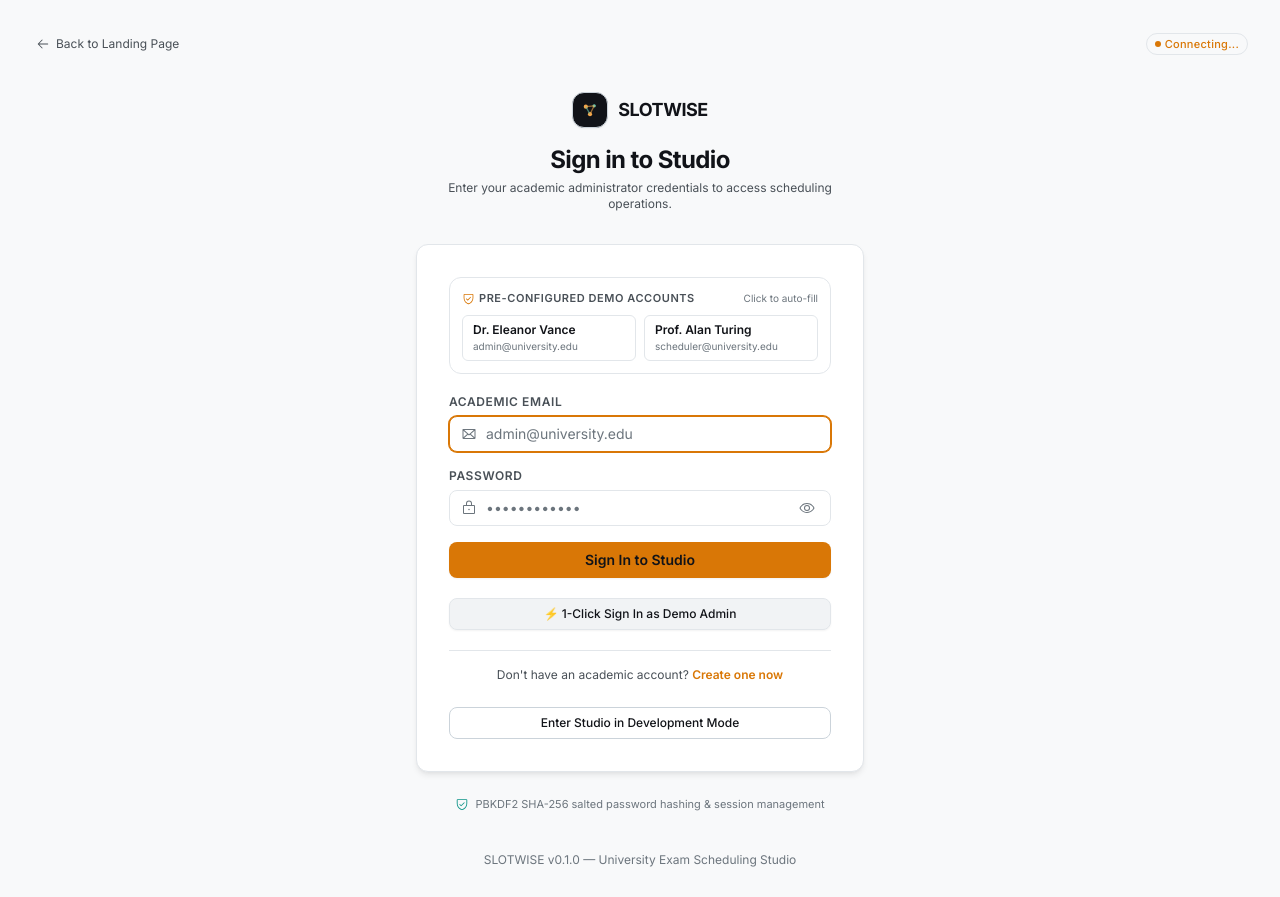
Authentication & Protected Routes › Login Form Validation › validates empty email and password submission
Click the button "Sign In to Studio" at (640, 560), box [449,542,831,578]
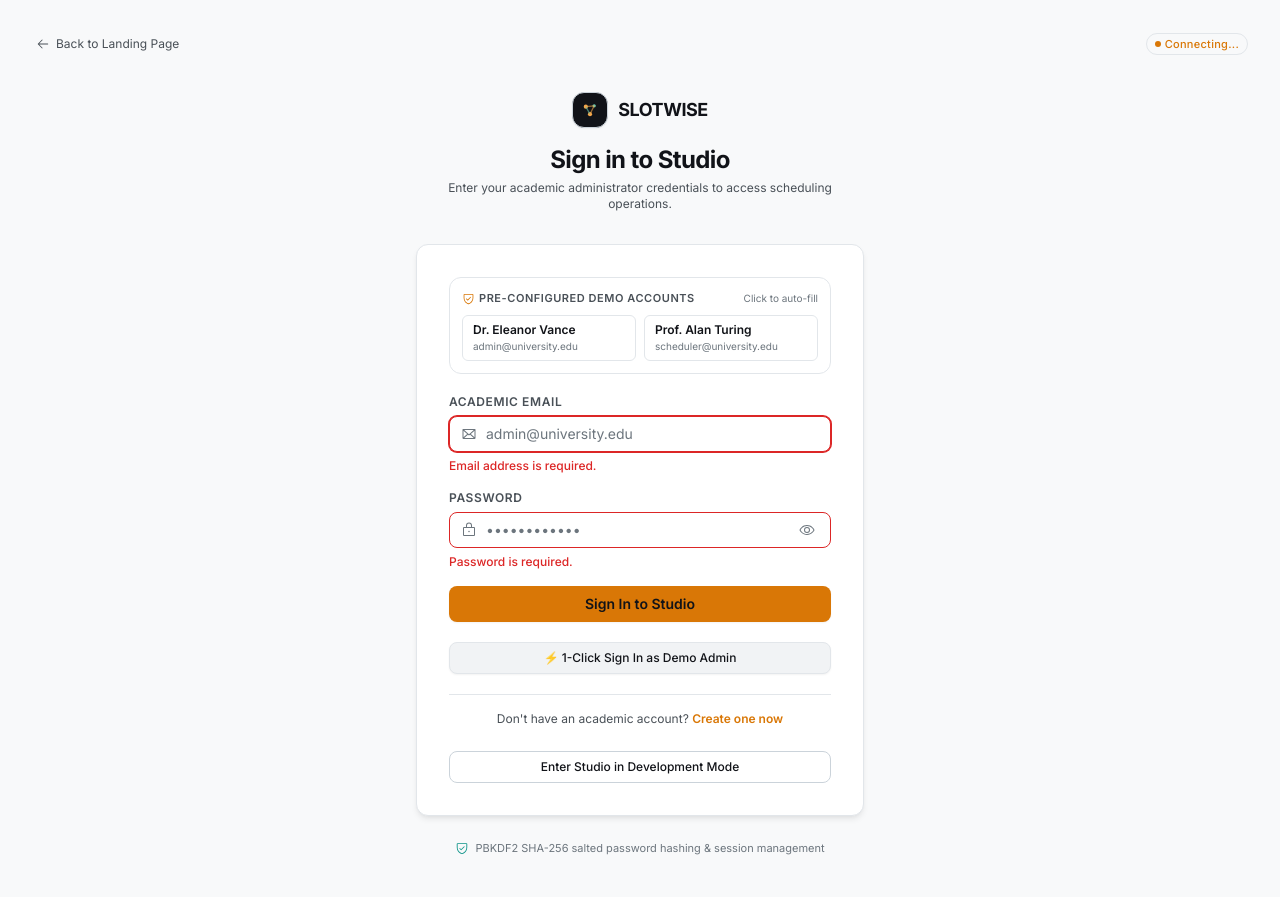
Expected: the text "Email address is required." is shown, [449,458,596,472]
Expected: the text "Password is required." is shown, [449,554,573,568]
